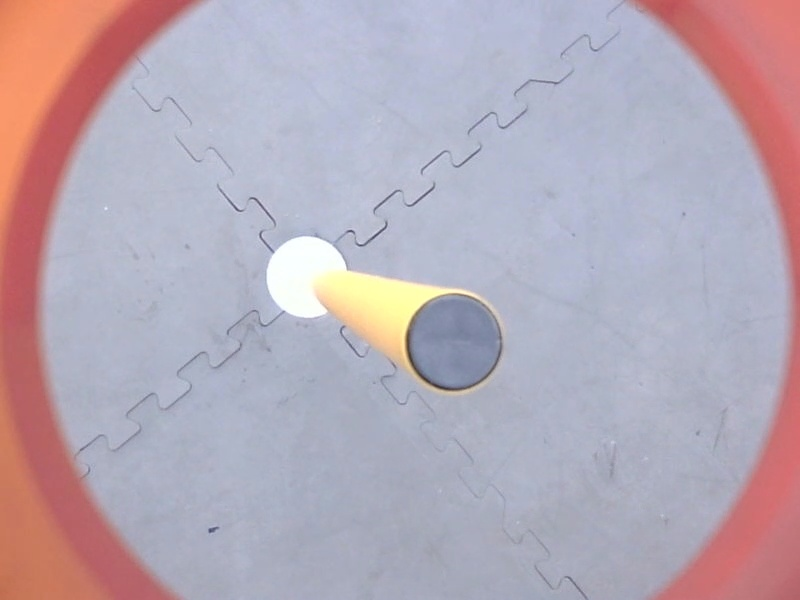tip: (396, 284, 512, 401)
